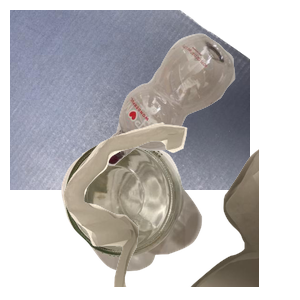cardboard: (10, 10, 250, 190)
glass: (59, 135, 254, 300)
plastic: (99, 31, 300, 189)
trash: (60, 120, 300, 300)
